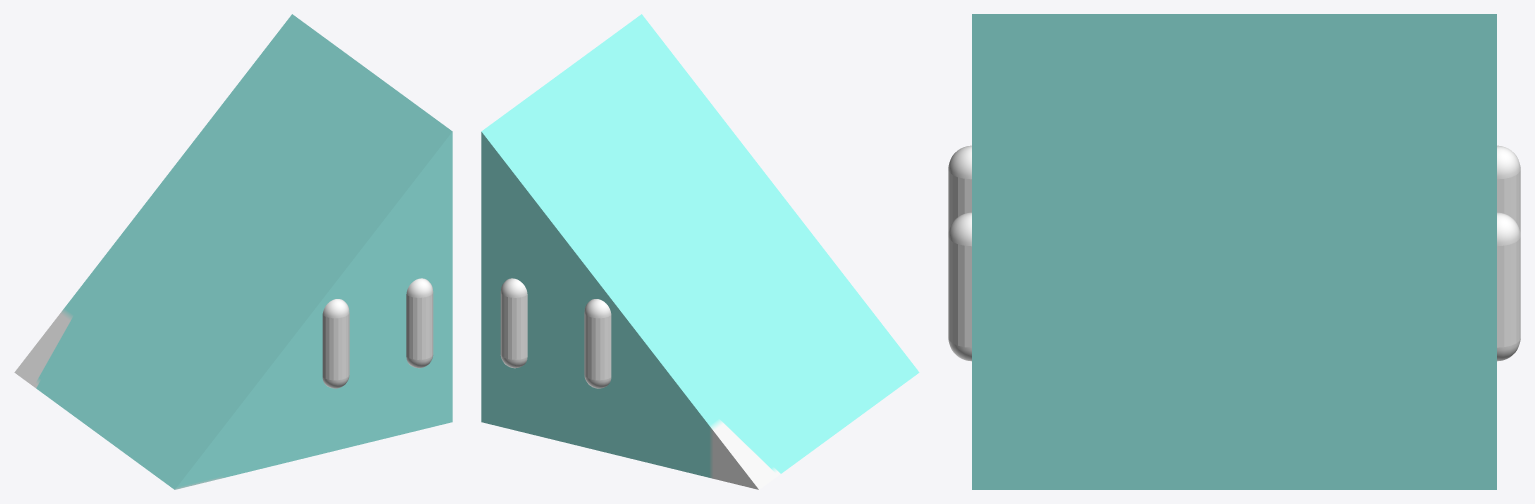
File: HyouiSlopeR.fbx
The picture shows the model from 3 angles, left to right: view 1: azimuth 30°, elevation 25°; view 2: azimuth 150°, elevation 25°; view 3: azimuth 270°, elevation 25°; orthographic projection. The views are drawn at different scales.
Visible parts, largest first — view 1: Slope, eye; view 2: Slope, eye; view 3: Slope, eye.
Boxes of the visible parts, x1,y1,x2,y2 form: Slope: (14,14,452,489); eye: (322,278,433,388); Slope: (481,14,919,489); eye: (500,278,611,388); Slope: (972,14,1496,489); eye: (948,145,1520,361).
Bounding box in the file's own units: 1 × 1 × 1.09.
